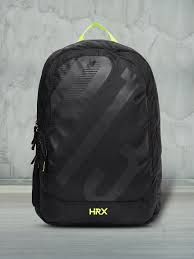backpack: (30, 37, 162, 227)
